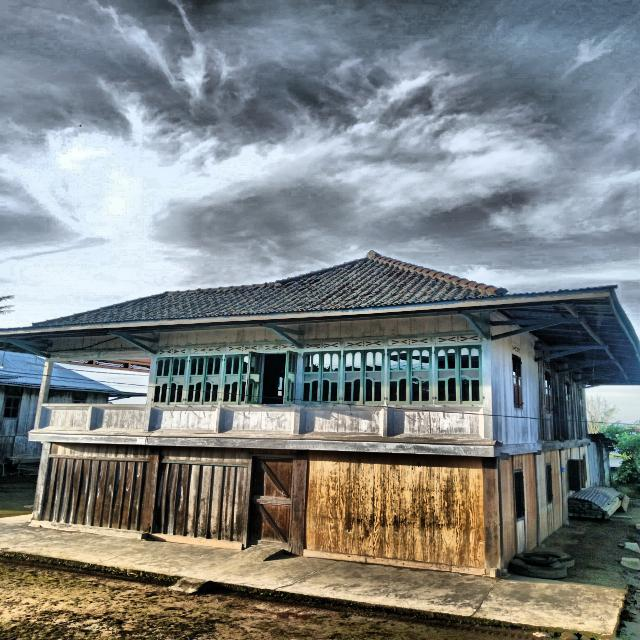column: (482, 456, 508, 576), (289, 449, 308, 556), (32, 441, 52, 521), (143, 445, 161, 533)
door: (249, 458, 293, 548)
ornamen: (387, 407, 484, 439), (299, 407, 383, 437), (219, 407, 295, 434), (148, 407, 217, 433), (89, 406, 146, 432), (38, 406, 90, 431)
roof: (0, 251, 640, 386), (50, 365, 145, 397), (0, 351, 44, 387)
wall: (298, 315, 485, 445), (303, 450, 485, 569), (147, 327, 297, 439), (40, 443, 152, 531), (154, 446, 249, 543), (494, 333, 539, 444), (500, 453, 537, 568), (537, 449, 562, 545), (561, 447, 586, 520), (540, 358, 559, 442), (559, 370, 578, 441), (580, 442, 601, 488), (576, 381, 586, 439)
window: (434, 344, 483, 404), (245, 350, 298, 404), (387, 346, 433, 405), (342, 349, 384, 404), (301, 351, 341, 405), (185, 355, 222, 405), (221, 354, 256, 404), (153, 356, 188, 405), (567, 459, 586, 491), (512, 354, 523, 409), (514, 471, 524, 519), (544, 369, 552, 411), (546, 465, 553, 504), (564, 379, 571, 414), (578, 387, 583, 416)
